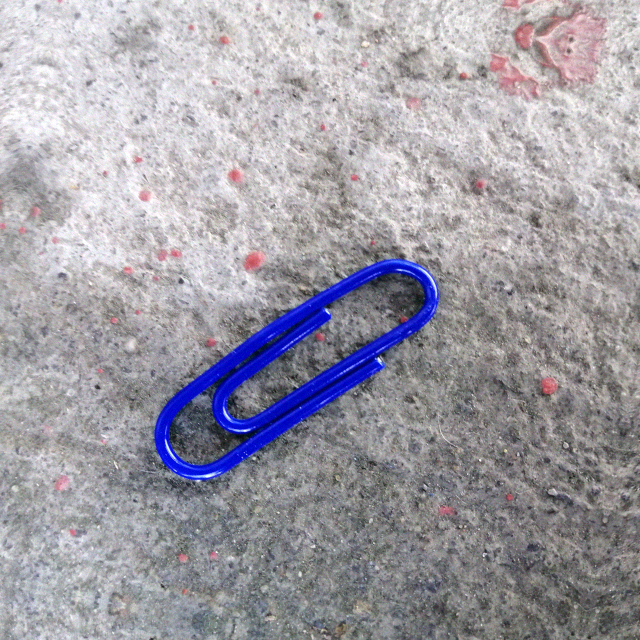pin: (149, 216, 439, 530)
